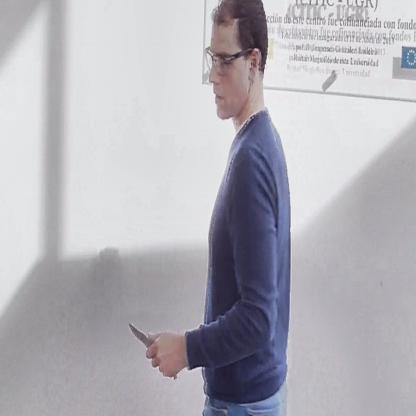knife: (124, 314, 178, 381)
